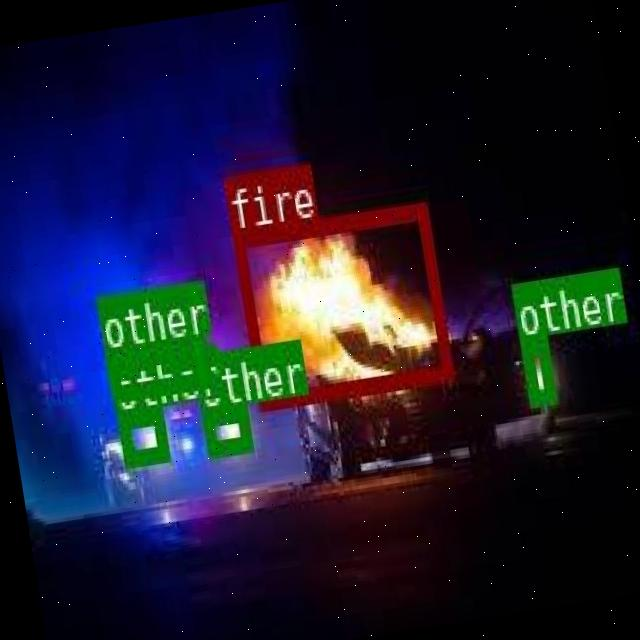fire: (232, 202, 452, 408)
